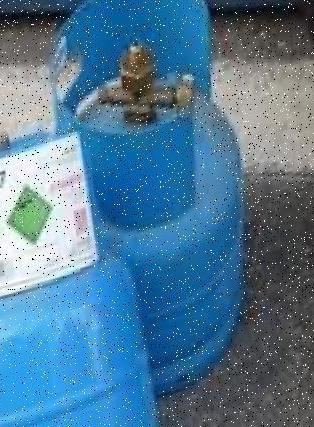cylinder: (1, 0, 314, 427)
